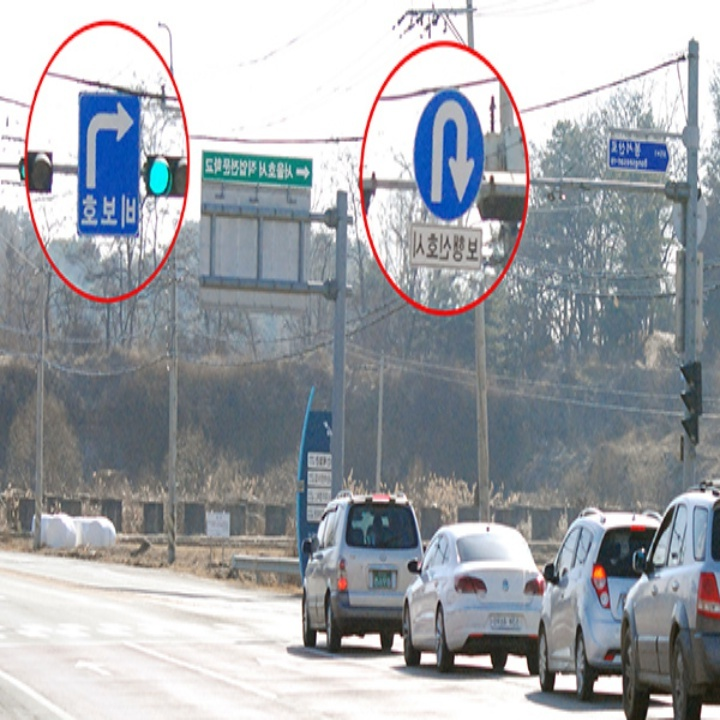right: (80, 100, 140, 193)
